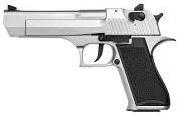gun: (1, 1, 179, 115)
